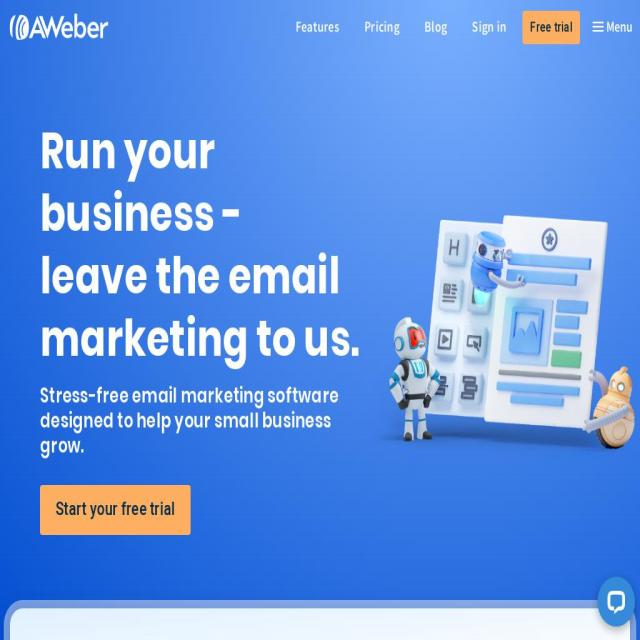navigation-links: (290, 10, 585, 50)
options: (590, 8, 635, 48)
